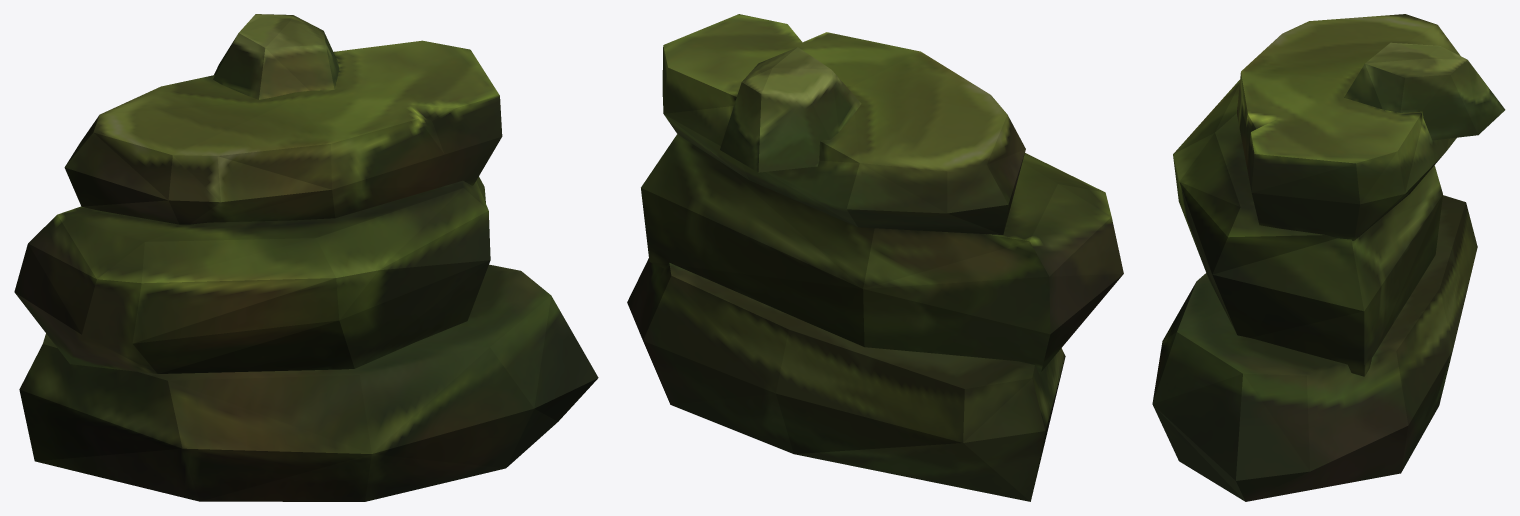
File: Swamp_shitou10.FBX
3 renders of one model, left to right at view 1: azimuth 30°, elevation 25°; view 2: azimuth 150°, elevation 25°; view 3: azimuth 270°, elevation 25°, orthographic. The views are drawn at different scales.
Visible parts, largest first — view 1: shitou10; view 2: shitou10; view 3: shitou10.
Part boxes in pixels (x1,y1,x2,y2): shitou10: [14, 14, 598, 501]; shitou10: [627, 14, 1123, 501]; shitou10: [1152, 14, 1505, 501].
Bounding box in the file's own units: 150 × 110 × 97.28.
